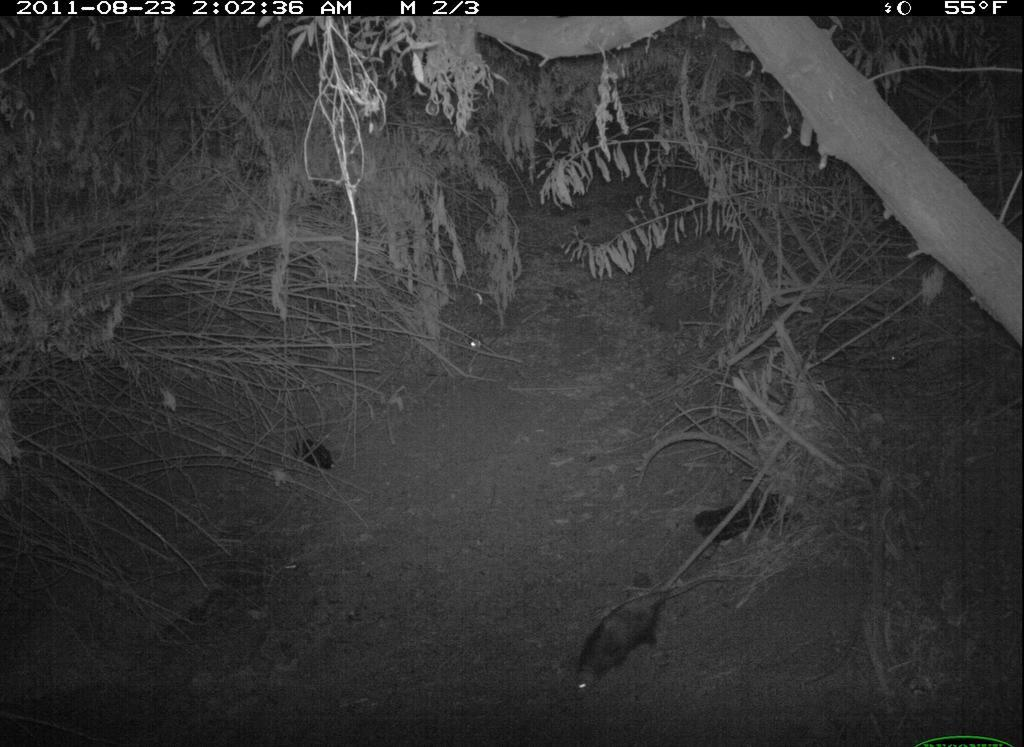opossum: (571, 574, 730, 701)
